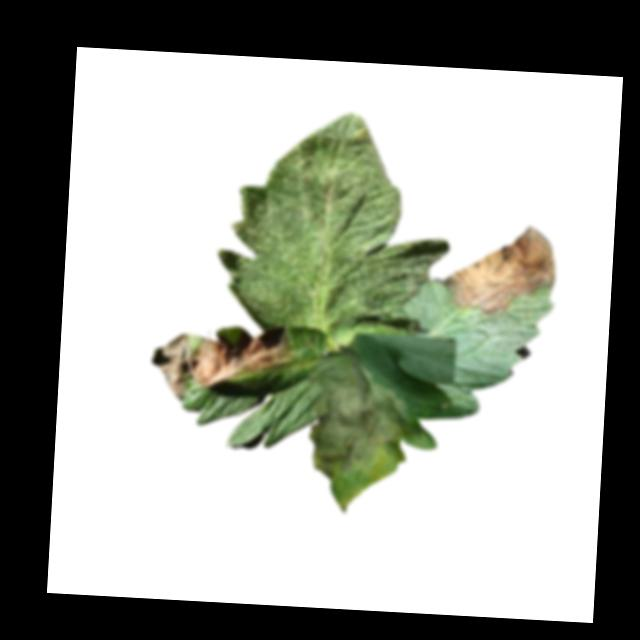Late_blight: (306, 345, 417, 482), (148, 324, 296, 405), (440, 220, 558, 321)
healthy: (211, 105, 457, 354)
